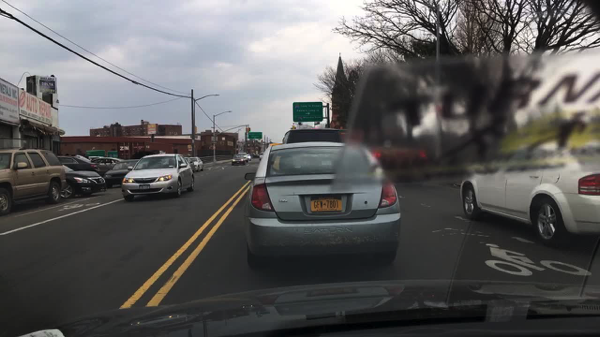car: (242, 138, 402, 269), (459, 140, 599, 247), (1, 147, 66, 216), (120, 153, 195, 202), (60, 164, 106, 200), (103, 158, 143, 188), (282, 129, 354, 143), (60, 156, 98, 176), (191, 155, 205, 173), (230, 154, 245, 167), (94, 158, 119, 162), (184, 158, 193, 167), (258, 151, 265, 162), (78, 156, 88, 162), (243, 153, 249, 161), (248, 154, 252, 161)
traffic light: (186, 145, 192, 151), (209, 145, 213, 151), (244, 127, 247, 133), (247, 127, 250, 132), (214, 145, 216, 151)
traffic sign: (293, 101, 323, 122), (147, 124, 157, 134), (248, 132, 262, 139), (212, 136, 219, 141), (191, 135, 199, 139)
truck: (117, 142, 173, 158)
